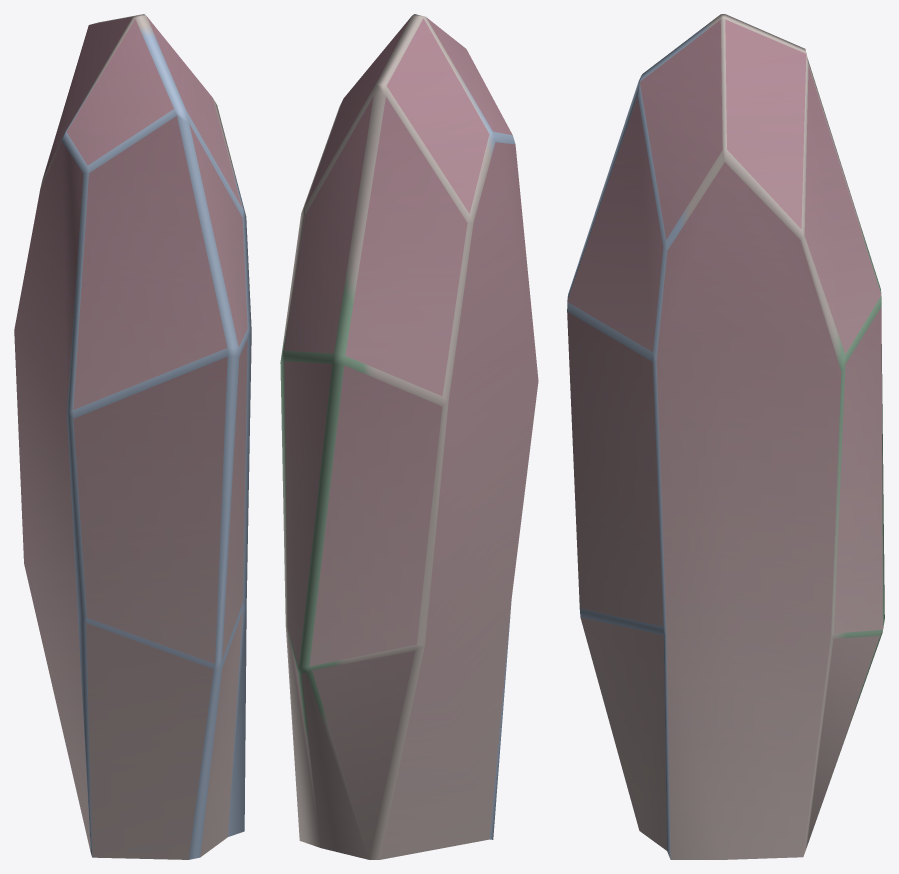
File: pipsCrystal.2b66b33c.glb
The picture shows the model from 3 angles, left to right: view 1: azimuth 30°, elevation 25°; view 2: azimuth 150°, elevation 25°; view 3: azimuth 270°, elevation 25°; orthographic projection.
Visible parts, largest first — view 1: Crystal_Small_01; view 2: Crystal_Small_01; view 3: Crystal_Small_01.
Boxes of the visible parts, left/top/right/bottom form: Crystal_Small_01: left=14, top=14, right=251, bottom=859; Crystal_Small_01: left=280, top=14, right=538, bottom=859; Crystal_Small_01: left=567, top=14, right=884, bottom=859.
Bounding box in the file's own units: 1.06 × 4.72 × 1.68.
Materials: 1 (1 with a texture image).
